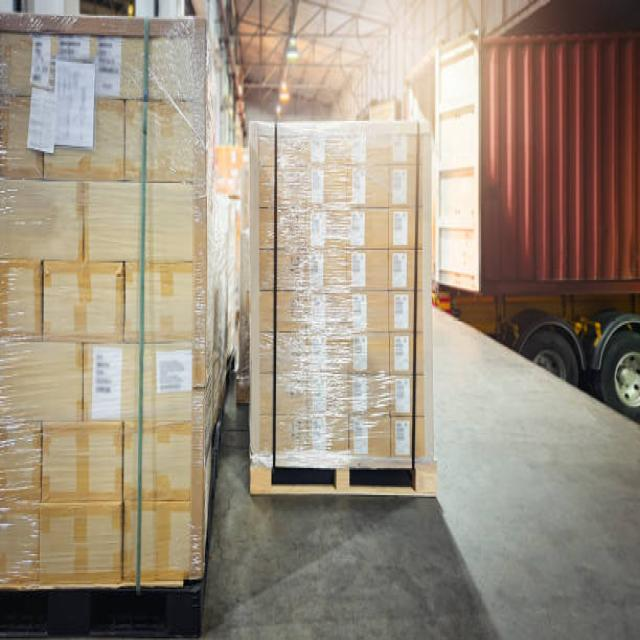Wooden-Pallets: (248, 459, 438, 499)
